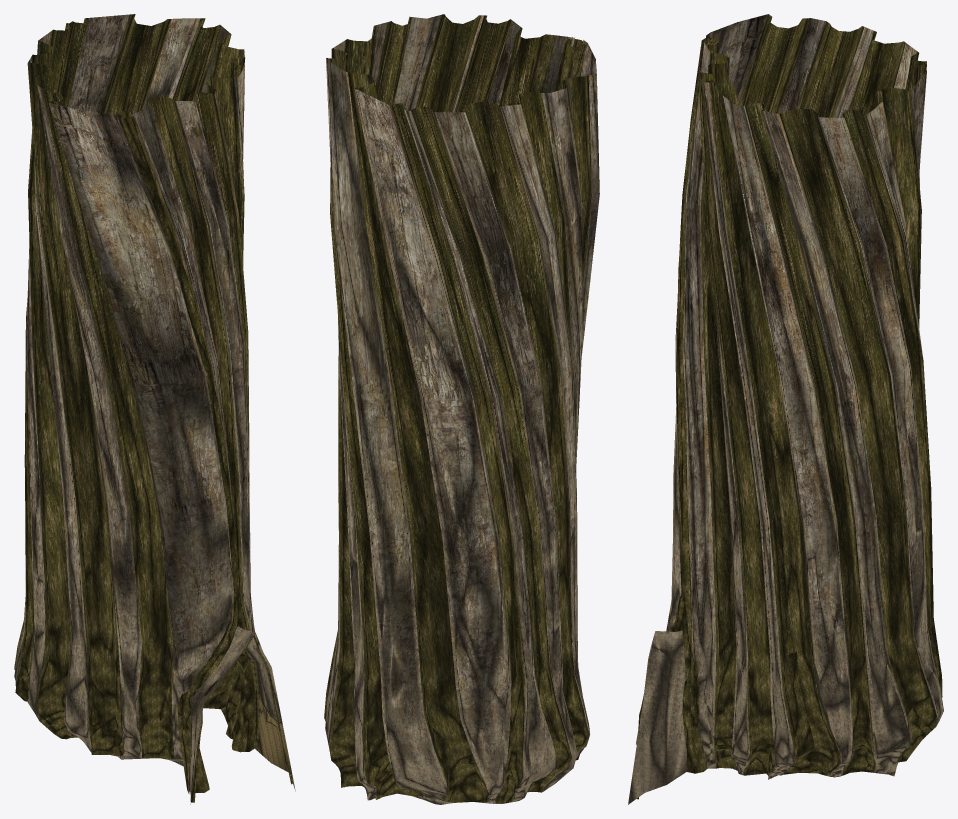
The picture shows the model from 3 angles, left to right: view 1: azimuth 30°, elevation 25°; view 2: azimuth 150°, elevation 25°; view 3: azimuth 270°, elevation 25°; orthographic projection. The views are drawn at different scales.
Visible parts, largest first — view 1: mesh0, mesh1, mesh5, mesh3, mesh2; view 2: mesh0, mesh1, mesh3, mesh5; view 3: mesh1, mesh0, mesh5, mesh3.
Boxes of the visible parts, left/top/right/bottom form: mesh0: left=14, top=14, right=282, bottom=800; mesh1: left=14, top=15, right=250, bottom=759; mesh5: left=117, top=111, right=254, bottom=792; mesh3: left=19, top=14, right=292, bottom=802; mesh2: left=190, top=707, right=295, bottom=801; mesh0: left=325, top=15, right=599, bottom=804; mesh1: left=324, top=15, right=591, bottom=803; mesh3: left=326, top=14, right=586, bottom=800; mesh5: left=554, top=39, right=583, bottom=91; mesh1: left=698, top=23, right=942, bottom=775; mesh0: left=628, top=14, right=943, bottom=804; mesh5: left=668, top=37, right=718, bottom=773; mesh3: left=637, top=14, right=941, bottom=799.
Bounding box in the file's own units: 105 × 315 × 129.
